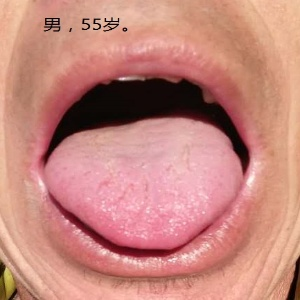st: (42, 147, 246, 253)
